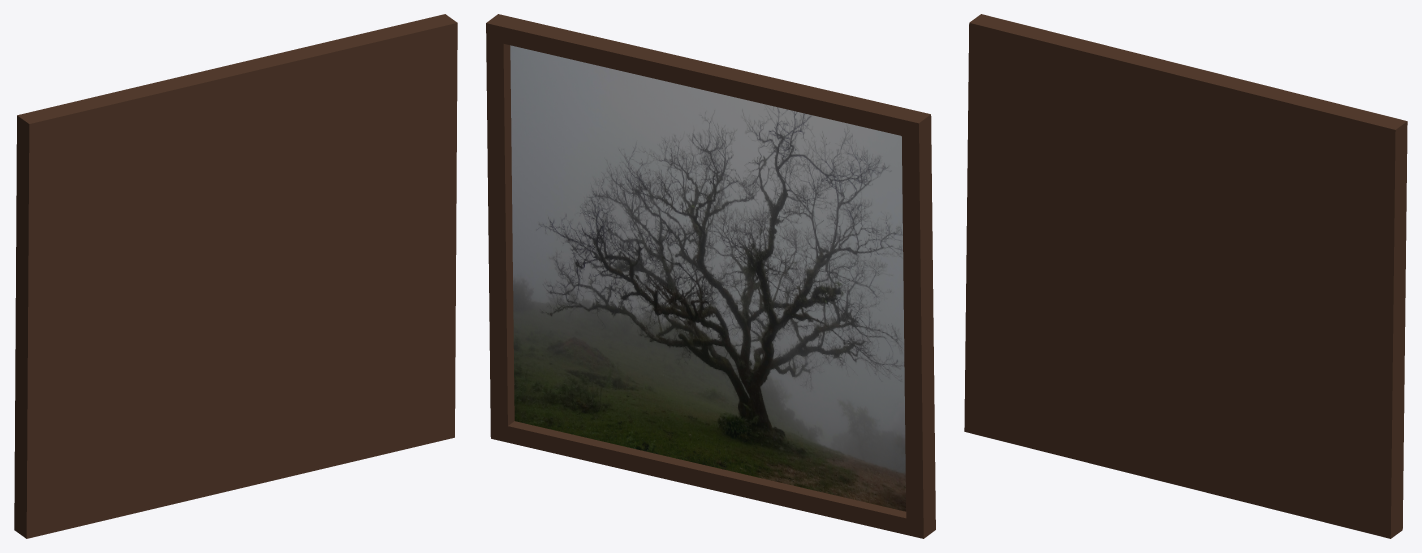
The model's file is treePainting.fbx.
3 views of the same model, side by side, from view 1: azimuth 30°, elevation 25°; view 2: azimuth 150°, elevation 25°; view 3: azimuth 330°, elevation 25° (orthographic).
Parts seen in each view (by area): view 1: TreePainting; view 2: TreePainting; view 3: TreePainting.
Boxes of the visible parts, x1,y1,x2,y2 form: TreePainting: (14, 14, 457, 538); TreePainting: (486, 14, 935, 538); TreePainting: (964, 14, 1407, 538).
Bounding box in the file's own units: 226 × 208 × 12.98.
